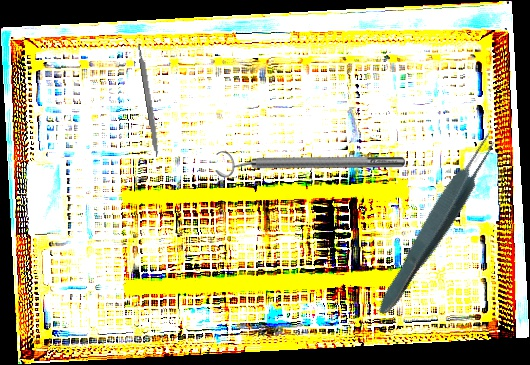Fixation Ring: (215, 149, 405, 178)
Scalpel Handle: (136, 43, 162, 158)
Tissue Forceps: (370, 126, 507, 321)
